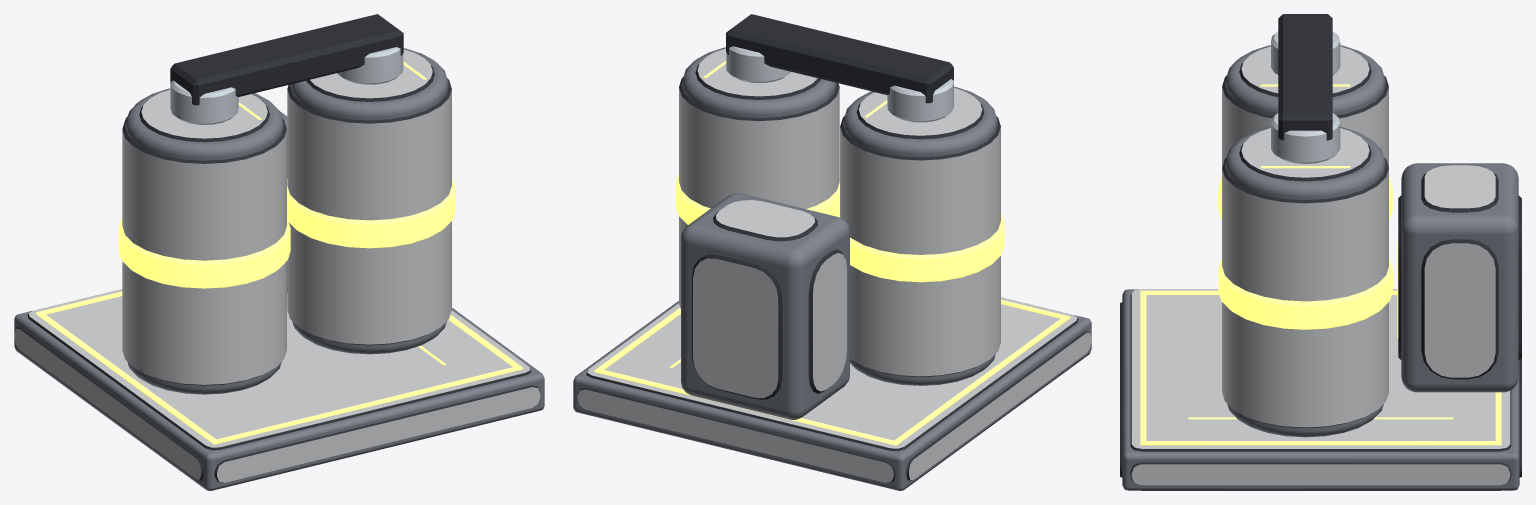
The model's file is R4X_Battery.fbx.
3 views of the same model, side by side, from view 1: azimuth 30°, elevation 25°; view 2: azimuth 150°, elevation 25°; view 3: azimuth 270°, elevation 25° (orthographic). The views are drawn at different scales.
Visible parts, largest first — view 1: R4X_Battery_Body; view 2: R4X_Battery_Body; view 3: R4X_Battery_Body.
Boxes of the visible parts, bbox=[...] form: R4X_Battery_Body: bbox=[14, 14, 544, 490]; R4X_Battery_Body: bbox=[573, 14, 1091, 490]; R4X_Battery_Body: bbox=[1120, 14, 1521, 490].
Size of the model in its own units: 0.52 by 0.495 by 0.52.
